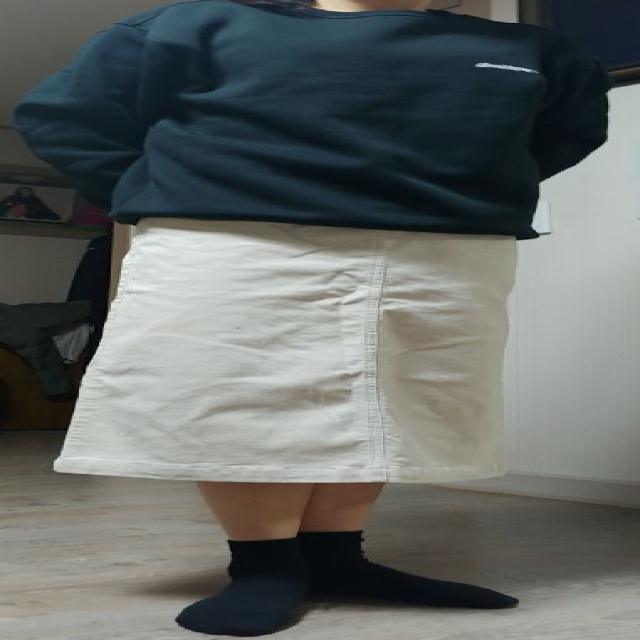mtm: (8, 0, 594, 244)
skirt: (53, 217, 511, 483)
